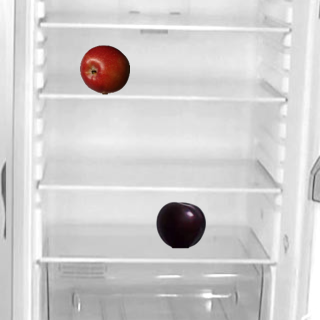Apple Braeburn: (79, 44, 129, 94)
Cherry Wax Black: (155, 199, 205, 249)
